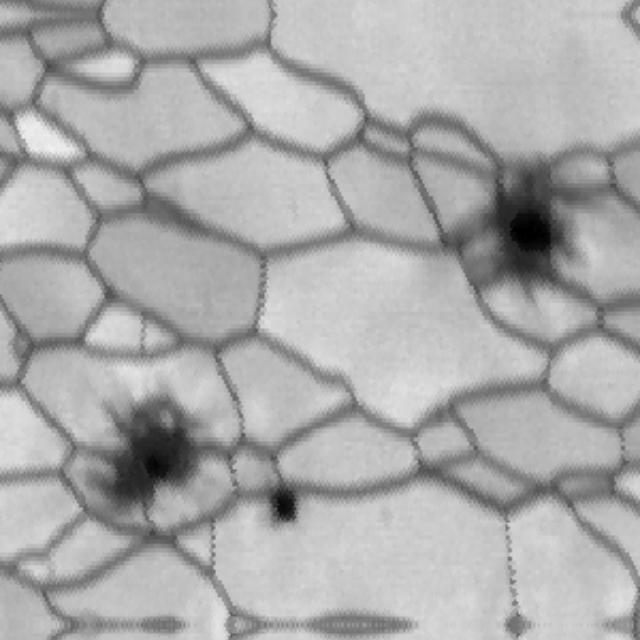good_void: (444, 150, 593, 292), (75, 376, 216, 526), (262, 489, 301, 535)
